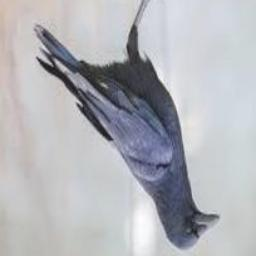Crow: (33, 0, 220, 251)
